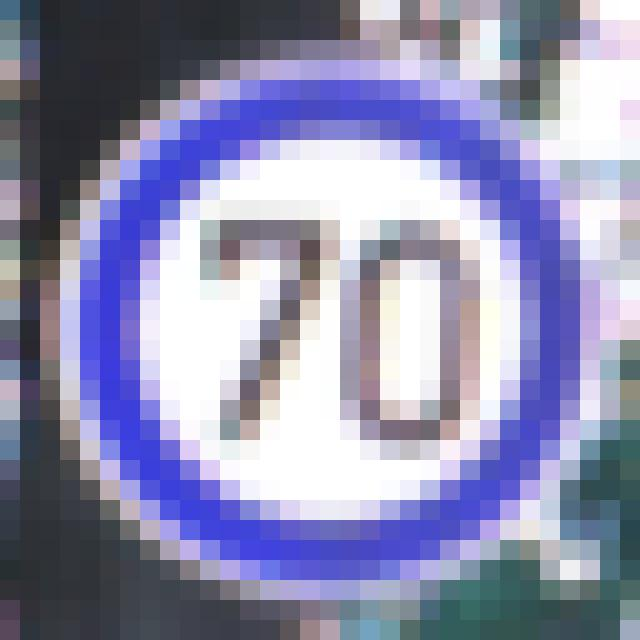SPEED LIMIT 70: (61, 73, 601, 595)
